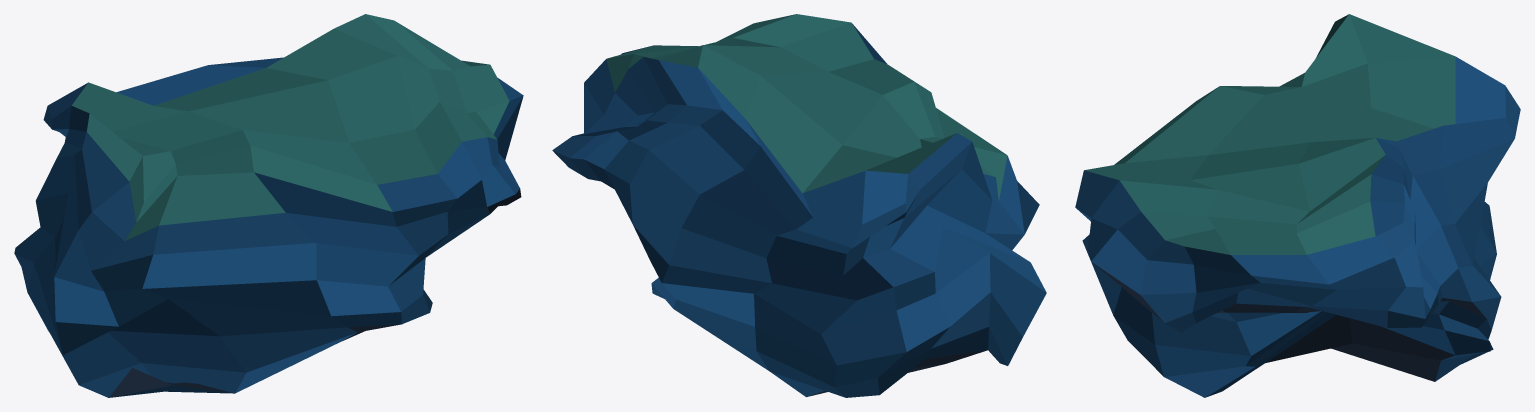
Rendered from rock014.FBX.
3 renders of one model, left to right at view 1: azimuth 30°, elevation 25°; view 2: azimuth 150°, elevation 25°; view 3: azimuth 270°, elevation 25°, orthographic. The views are drawn at different scales.
Parts seen in each view (by area): view 1: rock_014; view 2: rock_014; view 3: rock_014.
Boxes of the visible parts, bbox=[...] form: rock_014: bbox=[14, 14, 523, 397]; rock_014: bbox=[552, 14, 1046, 397]; rock_014: bbox=[1075, 14, 1520, 397].
Bounding box in the file's own units: 13.8 × 8.34 × 10.45.
